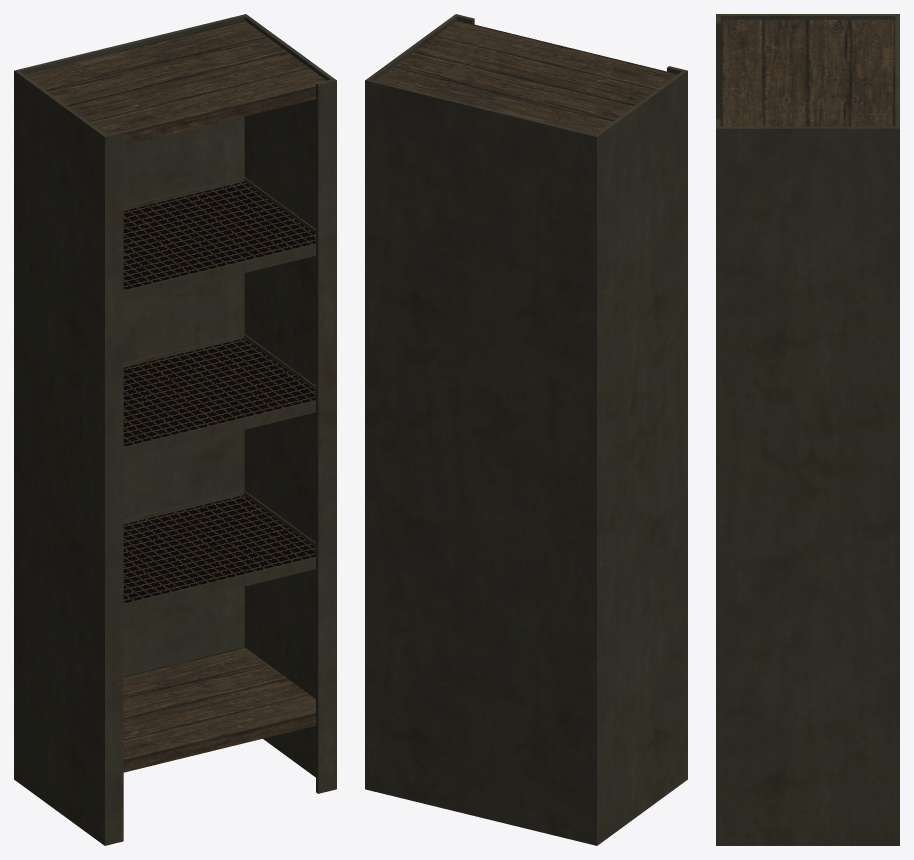
File: shelf_mx_7.obj
The picture shows the model from 3 angles, left to right: view 1: azimuth 30°, elevation 25°; view 2: azimuth 150°, elevation 25°; view 3: azimuth 270°, elevation 25°; orthographic projection.
Parts seen in each view (by area): view 1: shelf_mx_7; view 2: shelf_mx_7; view 3: shelf_mx_7.
Part boxes in pixels (<box>): shelf_mx_7: <box>14,14,336,845</box>; shelf_mx_7: <box>365,14,687,845</box>; shelf_mx_7: <box>716,14,899,845</box>.
Bounding box in the file's own units: 0.62 × 1.81 × 0.42.
